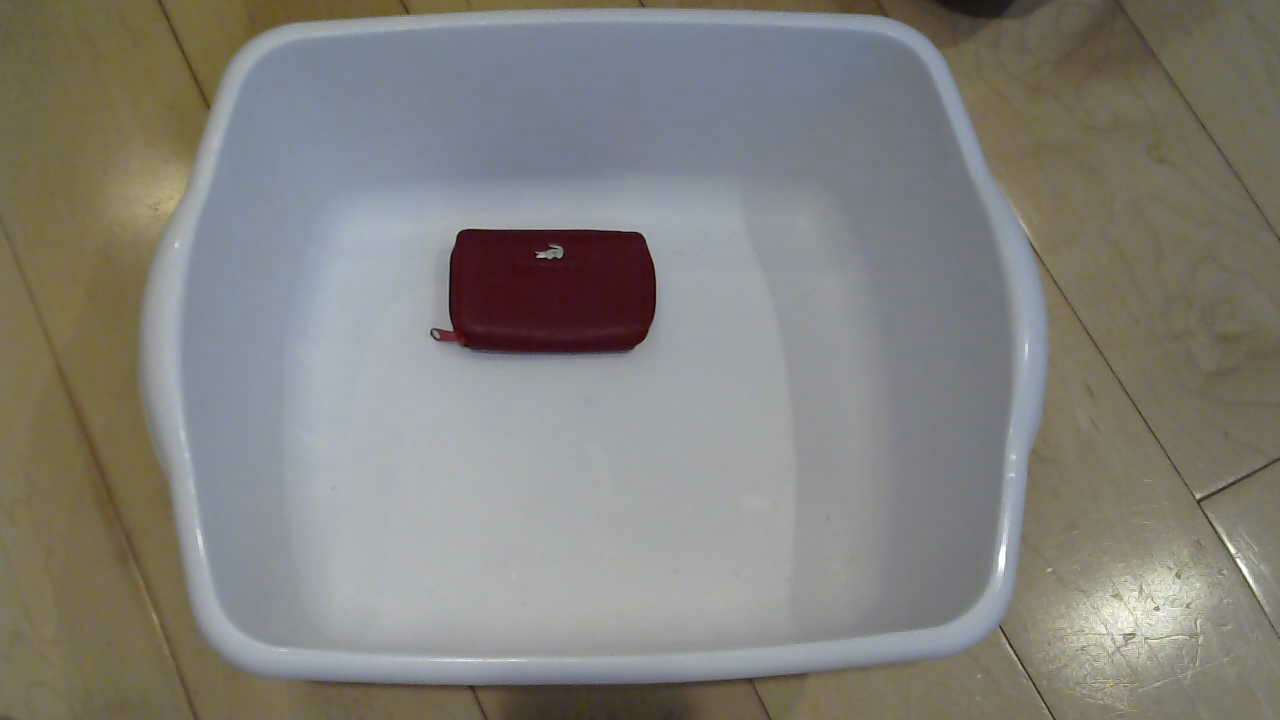wallet: (428, 200, 685, 392)
